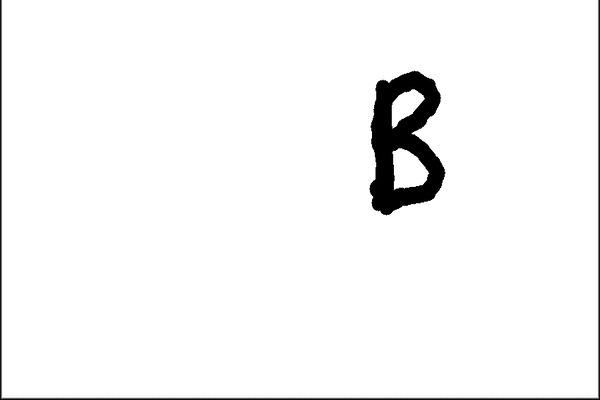B: (359, 64, 451, 218)
